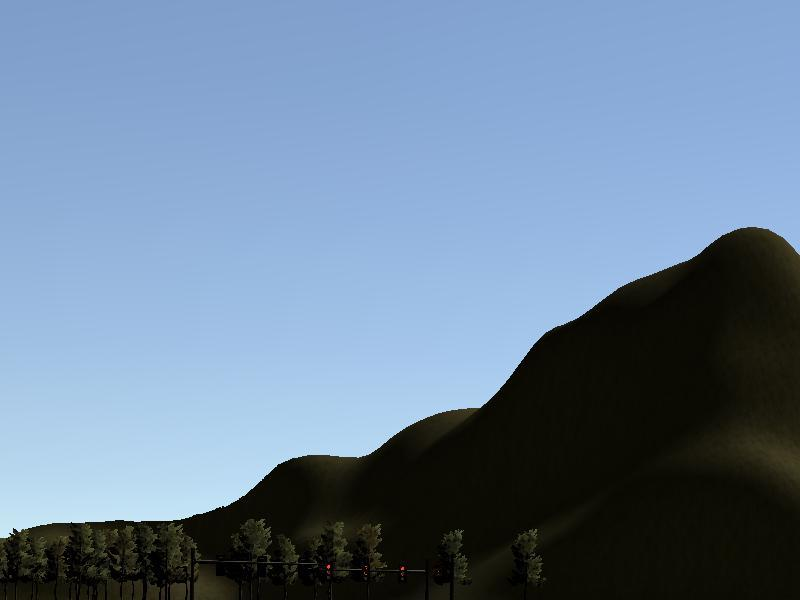Red: (327, 563, 333, 577), (361, 564, 368, 576), (400, 565, 406, 577)
